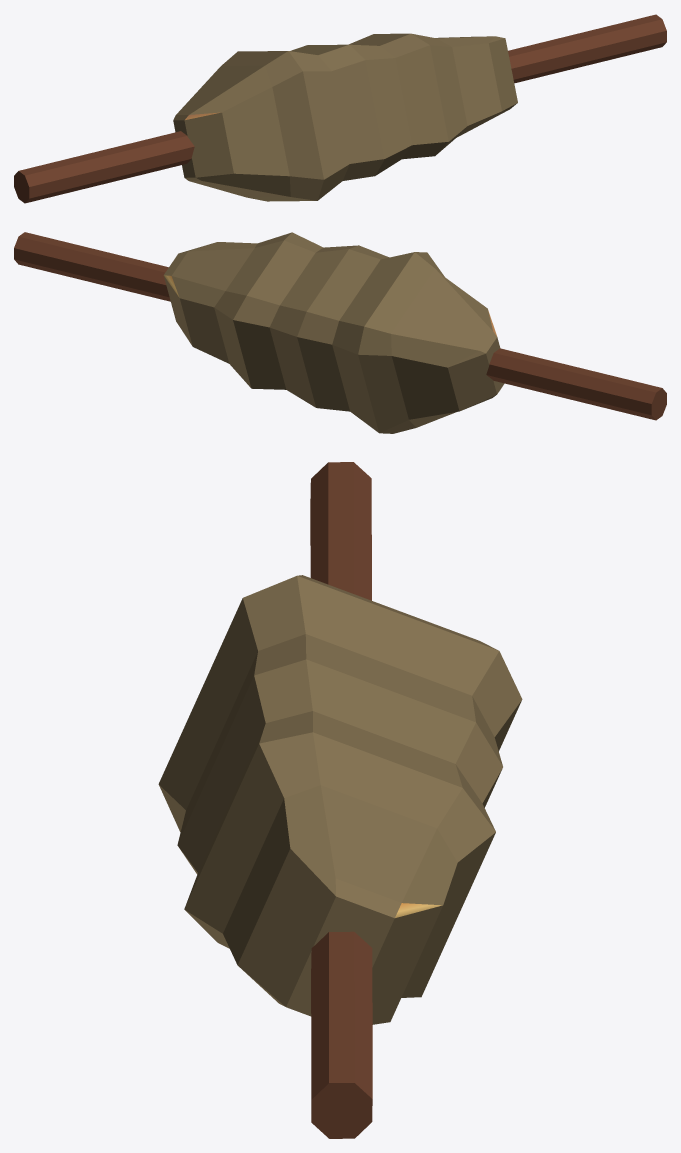
Rendered from shuttle_spindle_for_textile_bench.fbx.
The picture shows the model from 3 angles, top to bottom: view 1: azimuth 30°, elevation 25°; view 2: azimuth 150°, elevation 25°; view 3: azimuth 270°, elevation 25°; orthographic projection. The views are drawn at different scales.
Parts seen in each view (by area): view 1: shuttle_spindle; view 2: shuttle_spindle; view 3: shuttle_spindle.
Part boxes in pixels (x1,y1,x2,y2): shuttle_spindle: [14, 14, 666, 203]; shuttle_spindle: [14, 232, 666, 433]; shuttle_spindle: [158, 462, 522, 1138].
Bounding box in the file's own units: 33.78 × 8.42 × 8.35.
